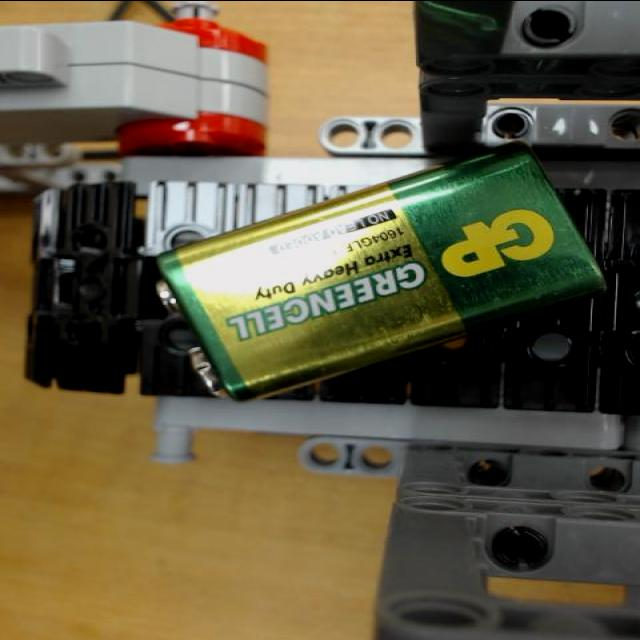9V: (156, 141, 612, 393)
